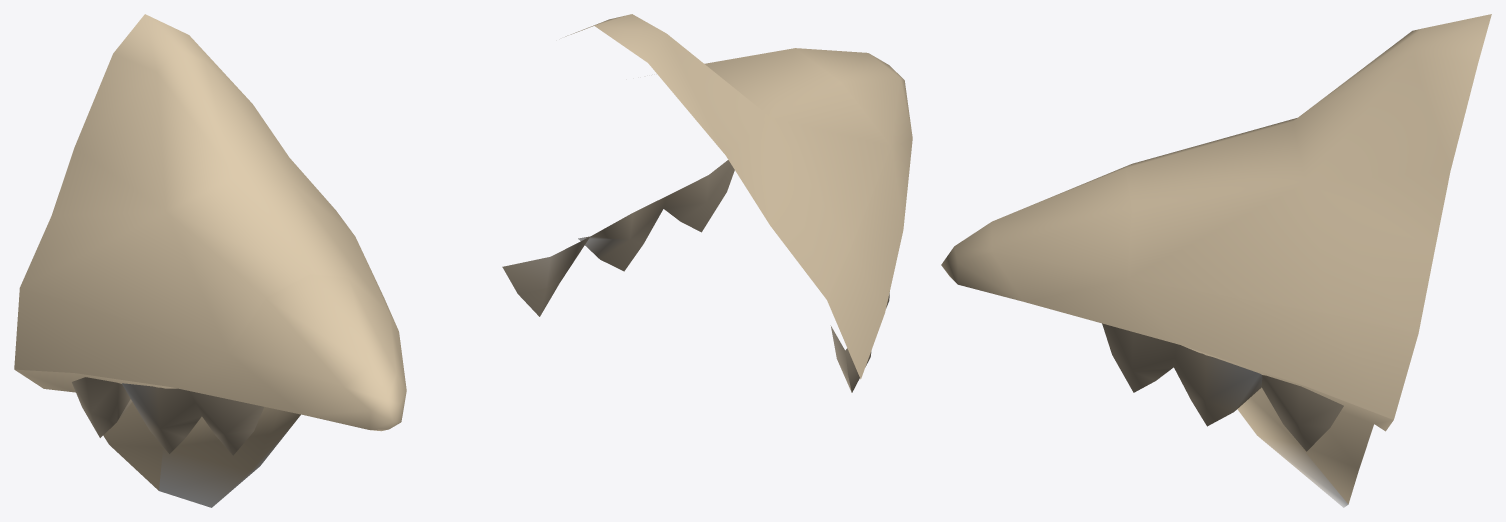
The model's file is S12_Bird04_L2_Mouth.glb.
3 renders of one model, left to right at view 1: azimuth 30°, elevation 25°; view 2: azimuth 150°, elevation 25°; view 3: azimuth 270°, elevation 25°, orthographic. The views are drawn at different scales.
Parts seen in each view (by area): view 1: S12_Bird04_L2_Mouth__Mouth_M__surface0__lod0; view 2: S12_Bird04_L2_Mouth__Mouth_M__surface0__lod0; view 3: S12_Bird04_L2_Mouth__Mouth_M__surface0__lod0.
Boxes of the visible parts, <box> form: S12_Bird04_L2_Mouth__Mouth_M__surface0__lod0: <box>14,14,406,507</box>; S12_Bird04_L2_Mouth__Mouth_M__surface0__lod0: <box>502,14,912,392</box>; S12_Bird04_L2_Mouth__Mouth_M__surface0__lod0: <box>941,14,1491,507</box>.
Size of the model in its own units: 15.6 by 18.97 by 19.17.
